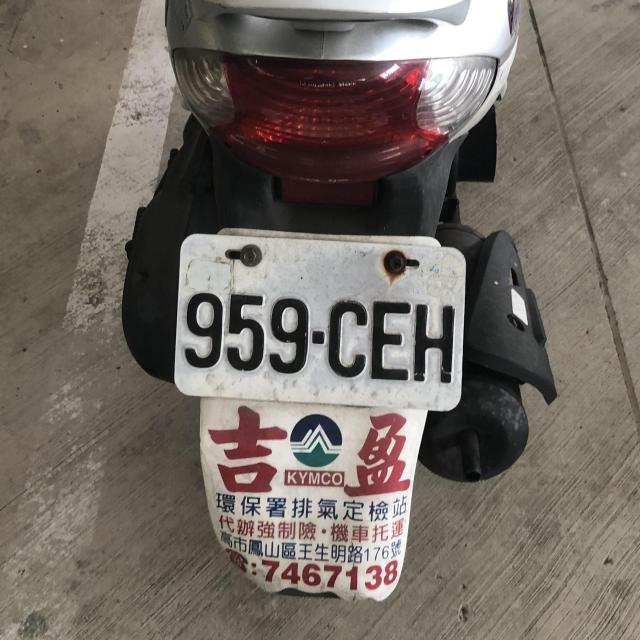W: (173, 219, 470, 413)
